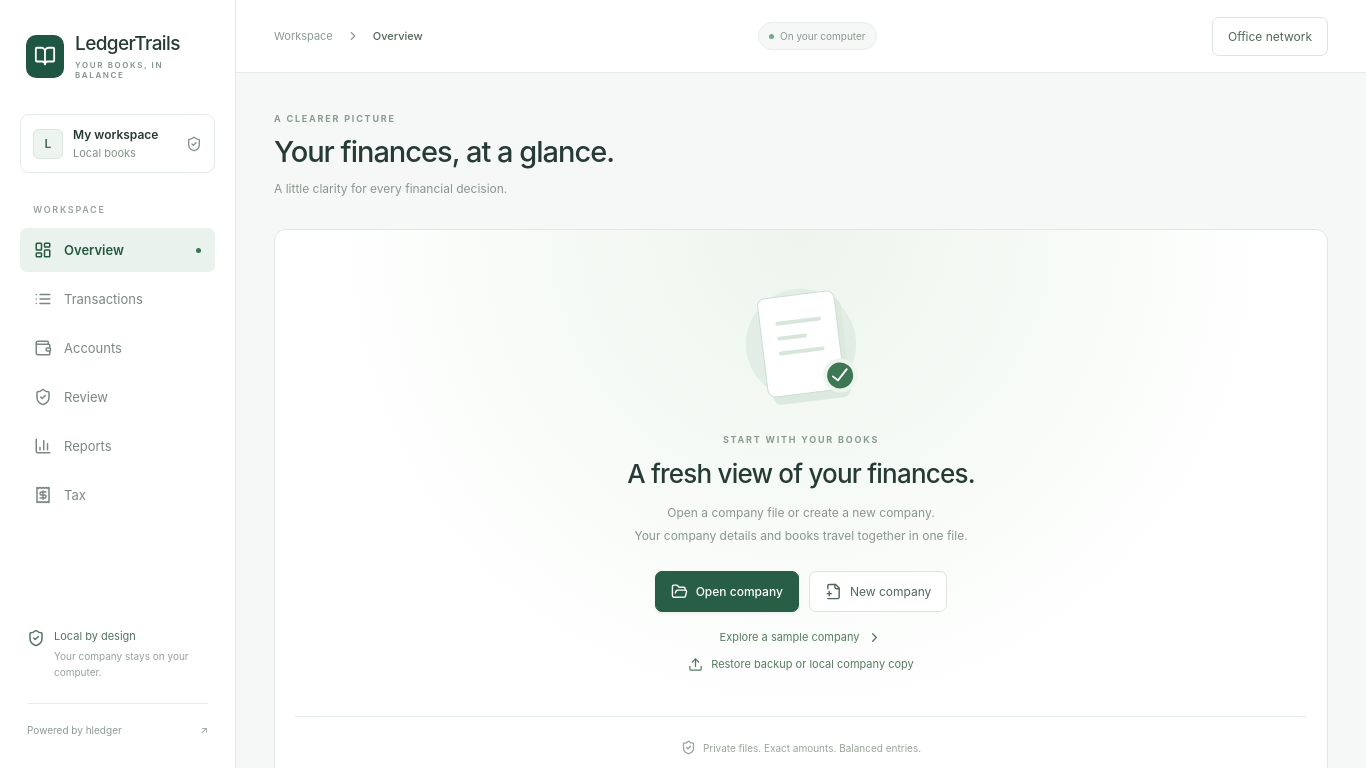
restore selects a local source and creates a separate company file
Click the button "Restore backup or local company copy": (801, 664) [688,651,914,678]
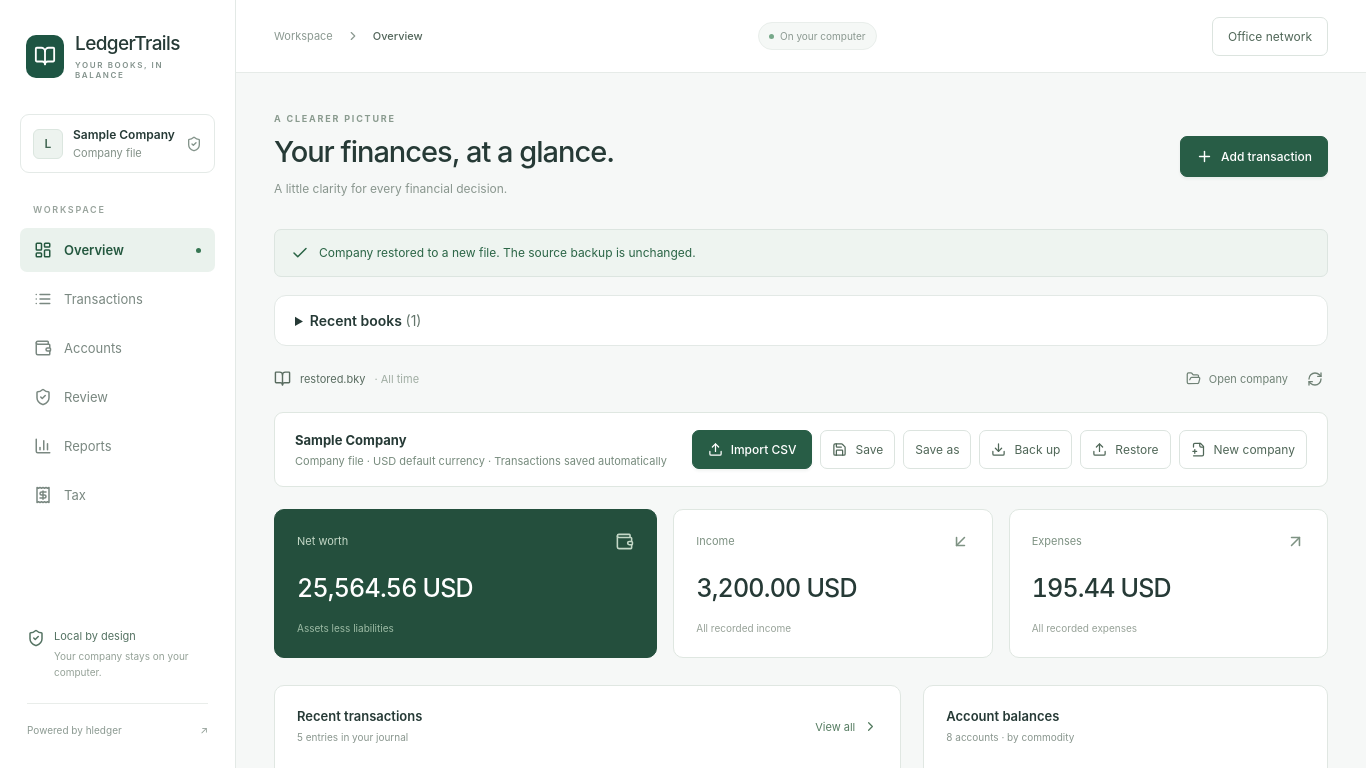
Now the text "Company restored to a new file. The source backup is unchanged." is shown, box [274,229,1328,277]
